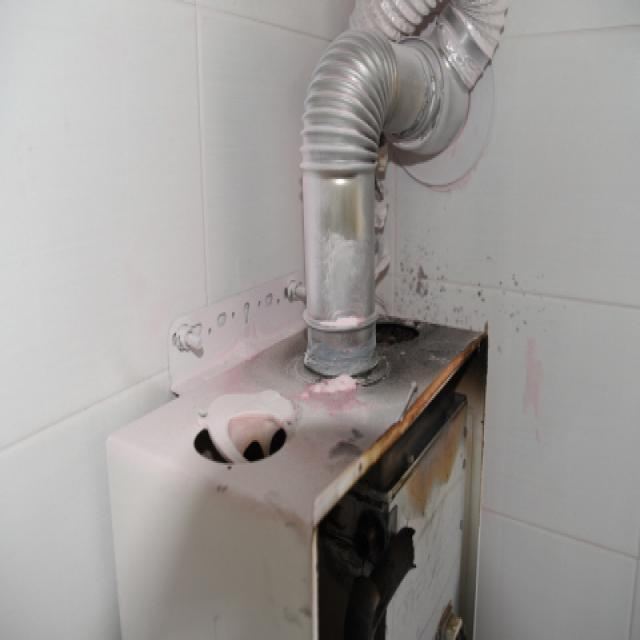Boiler: (78, 279, 597, 640)
